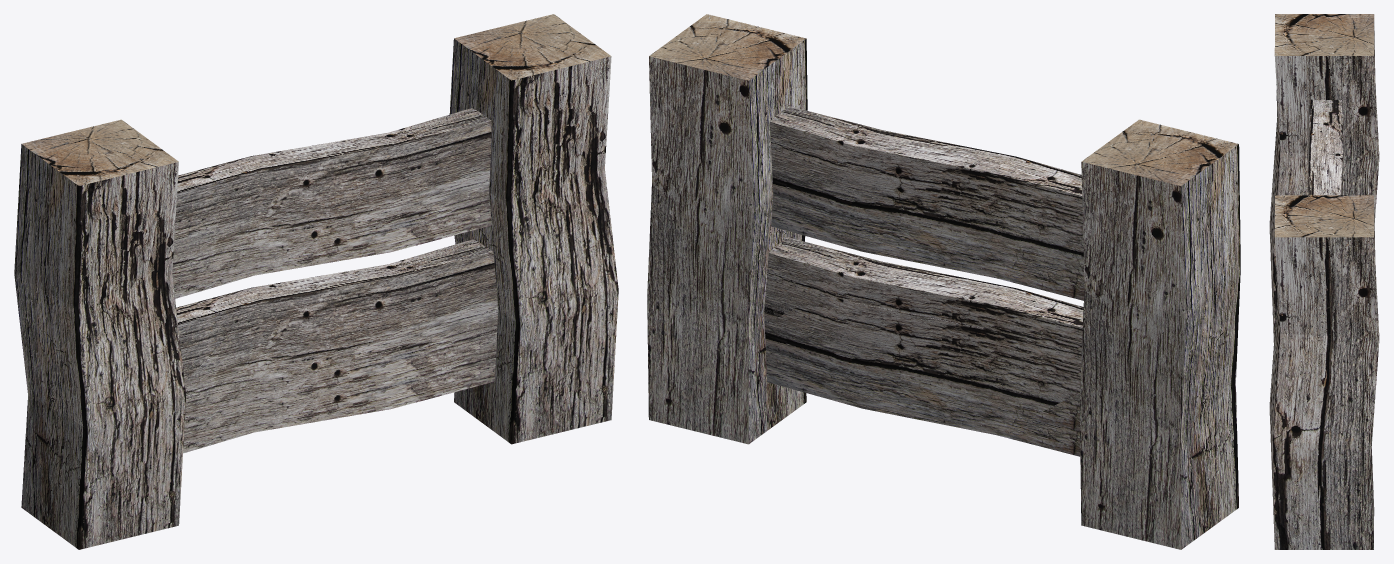
The model's file is fenceBasic.fbx.
3 renders of one model, left to right at view 1: azimuth 30°, elevation 25°; view 2: azimuth 150°, elevation 25°; view 3: azimuth 270°, elevation 25°, orthographic. The views are drawn at different scales.
Parts seen in each view (by area): view 1: Cube.008, Cube.001, Cube.004, Cube.003, Cube.002; view 2: Cube.008, Cube.001, Cube.004, Cube.002, Cube.003; view 3: Cube.001, Cube.008, Cube.004.
Part boxes in pixels (x1,y1,x2,y2): Cube.008: (14, 119, 186, 549); Cube.001: (449, 14, 618, 444); Cube.004: (172, 108, 491, 298); Cube.003: (176, 239, 498, 427); Cube.002: (181, 306, 497, 453); Cube.008: (1079, 119, 1240, 549); Cube.001: (647, 14, 807, 444); Cube.004: (770, 106, 1084, 300); Cube.002: (764, 278, 1081, 456); Cube.003: (764, 237, 1083, 431); Cube.001: (1269, 195, 1379, 549); Cube.008: (1269, 14, 1379, 342); Cube.004: (1307, 99, 1343, 195).
Size of what is drawn, in the model's own units: 313 by 200 by 63.78.
